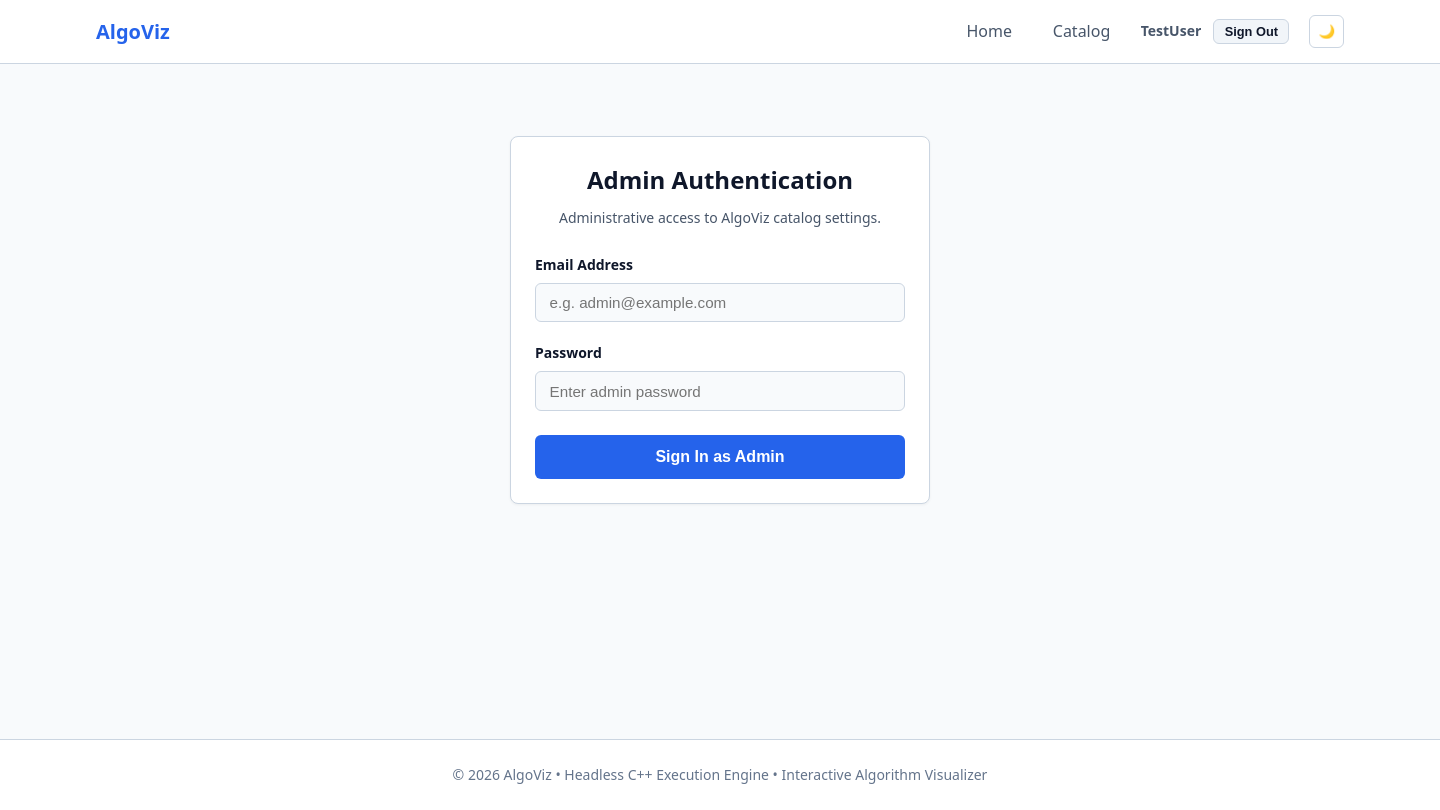
Test: Frontend Administrator Authentication System Tests › 3. Failed admin login displays appropriate error message and does not navigate
The image size is (1440, 810).
Type "wrong@algoviz.test" into the field labelled "Email Address". click: (720, 302)
box: 535,283 -> 905,322
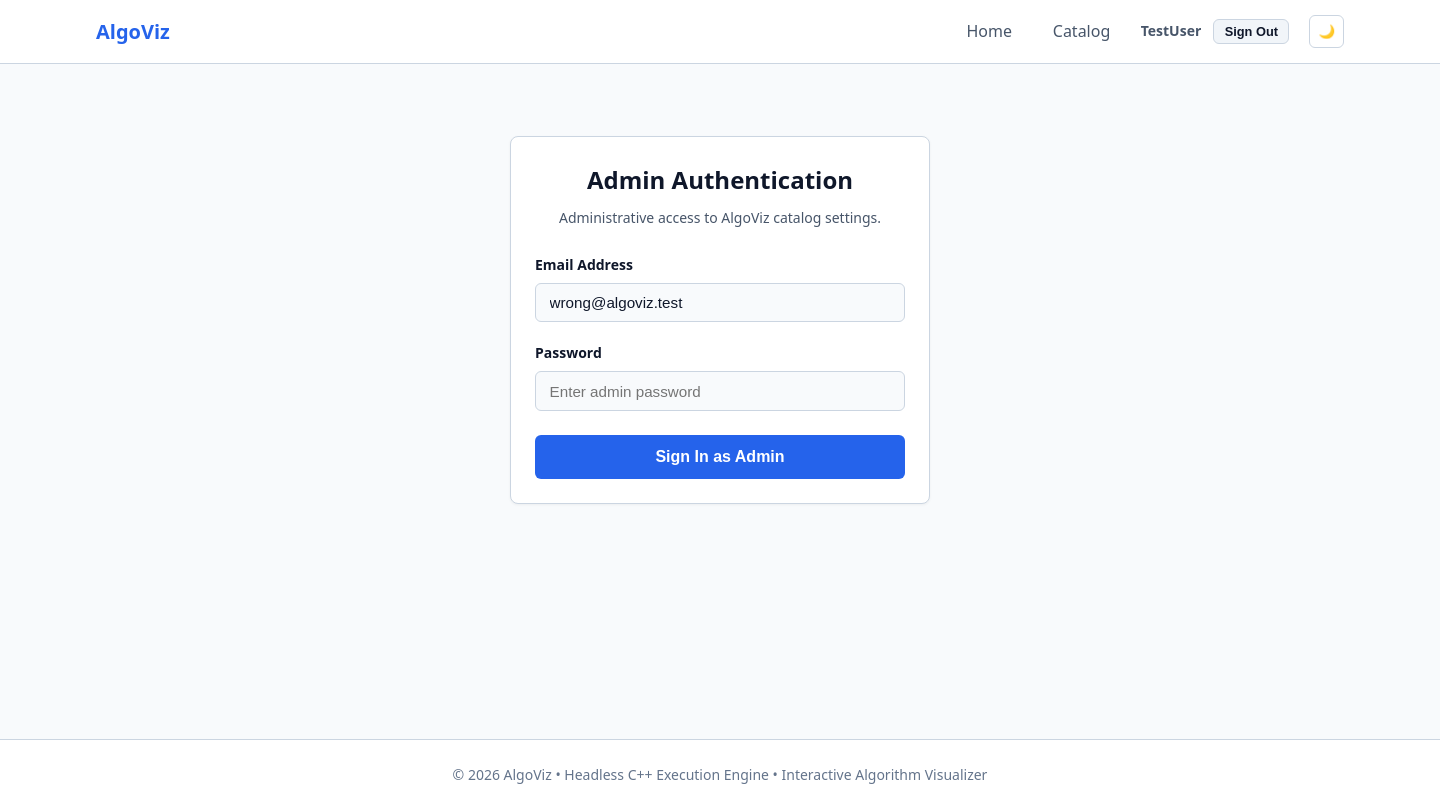
Type "WrongPassword" into the password field labelled "Password". click: (720, 391)
box: 535,371 -> 905,411
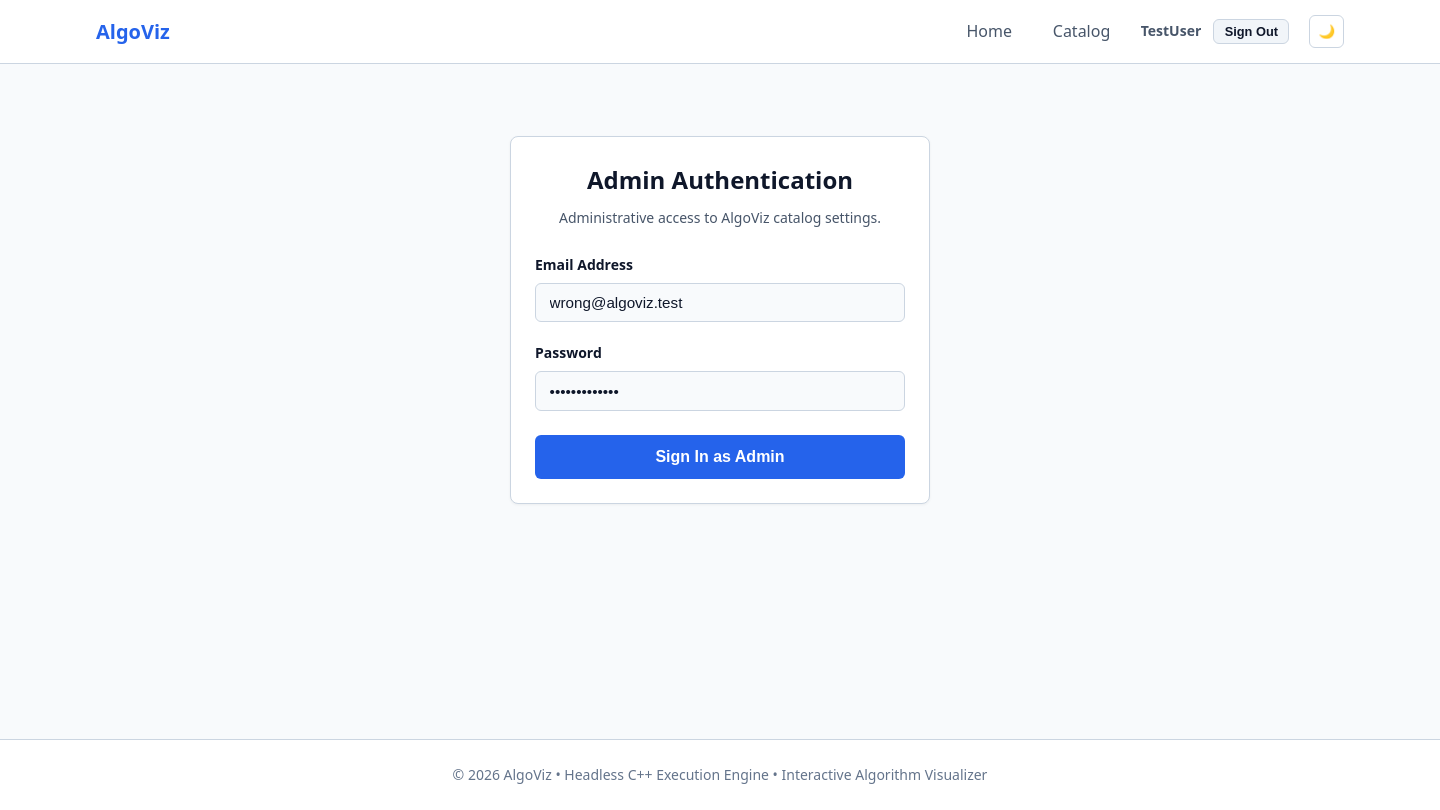
Click the button "Sign In as Admin". click: (720, 457)
box: 535,435 -> 905,479
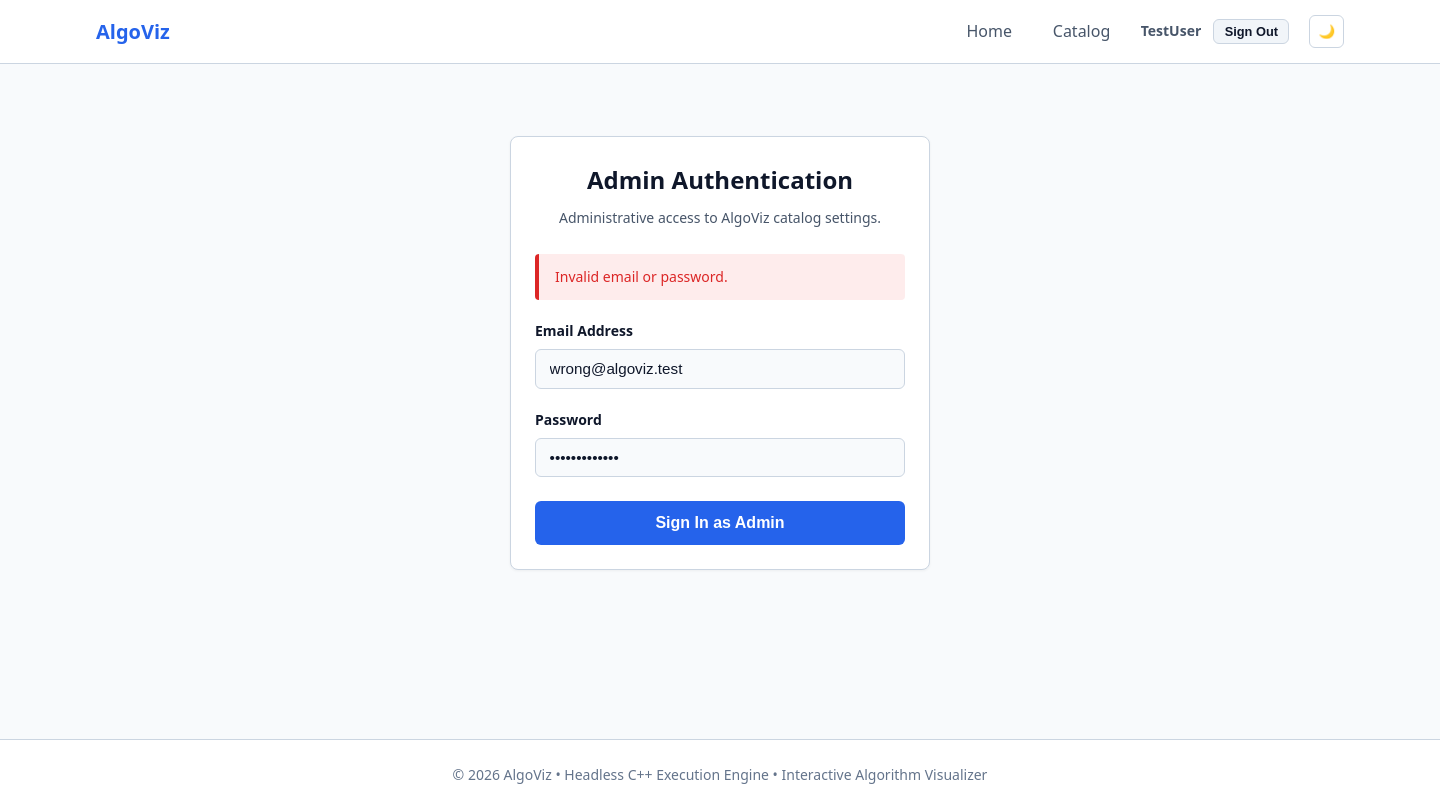
Expected: the heading "Admin Authentication" is shown, 587,163 -> 853,196
Now the message shows "Invalid email or password", box 555,267 -> 728,286
